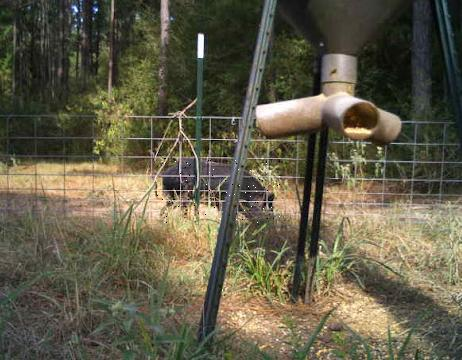Hog: (157, 158, 280, 223)
